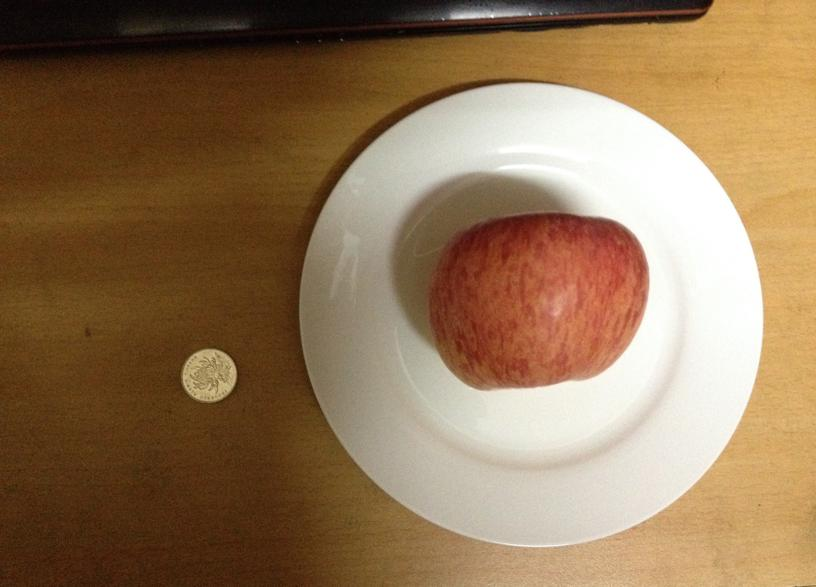apple: (427, 214, 649, 392)
coin: (178, 346, 239, 404)
